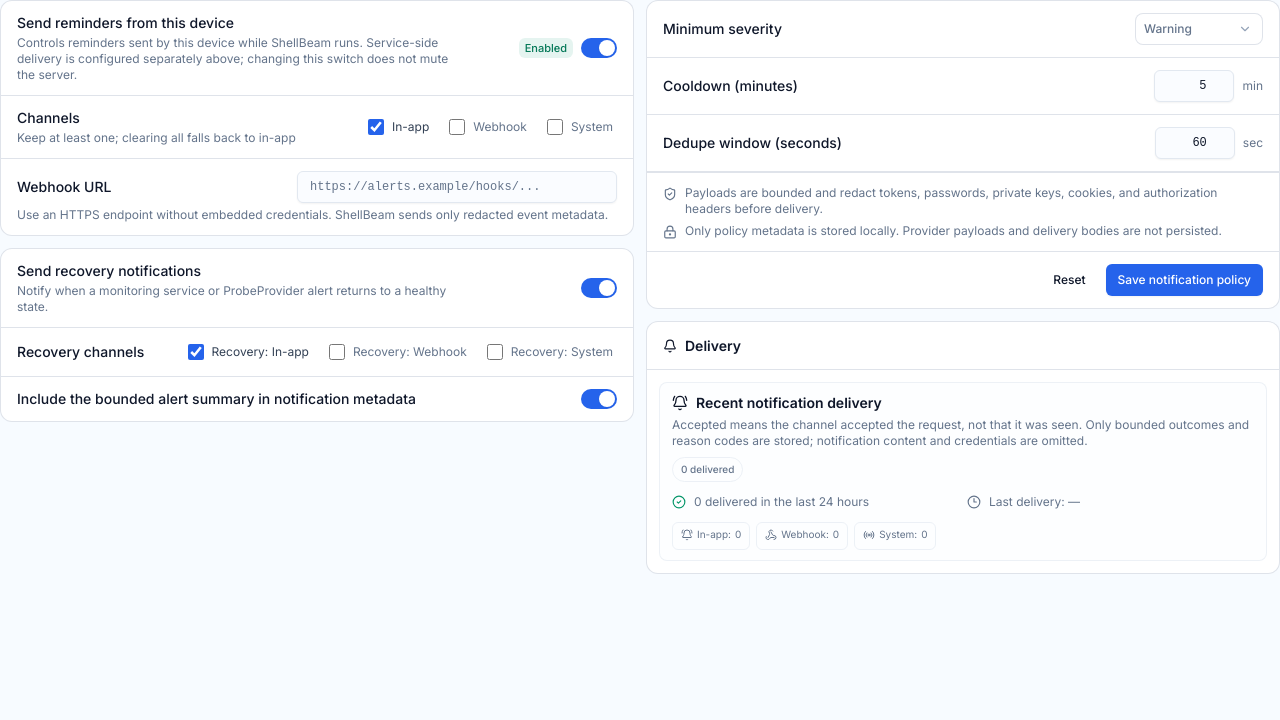
Test: NotificationSettingsSection › saves bounded channel and severity settings without webhook credentials
The image size is (1280, 720).
Click the checkbox labelled "Webhook" at (457, 127), box 449,119 -> 465,135
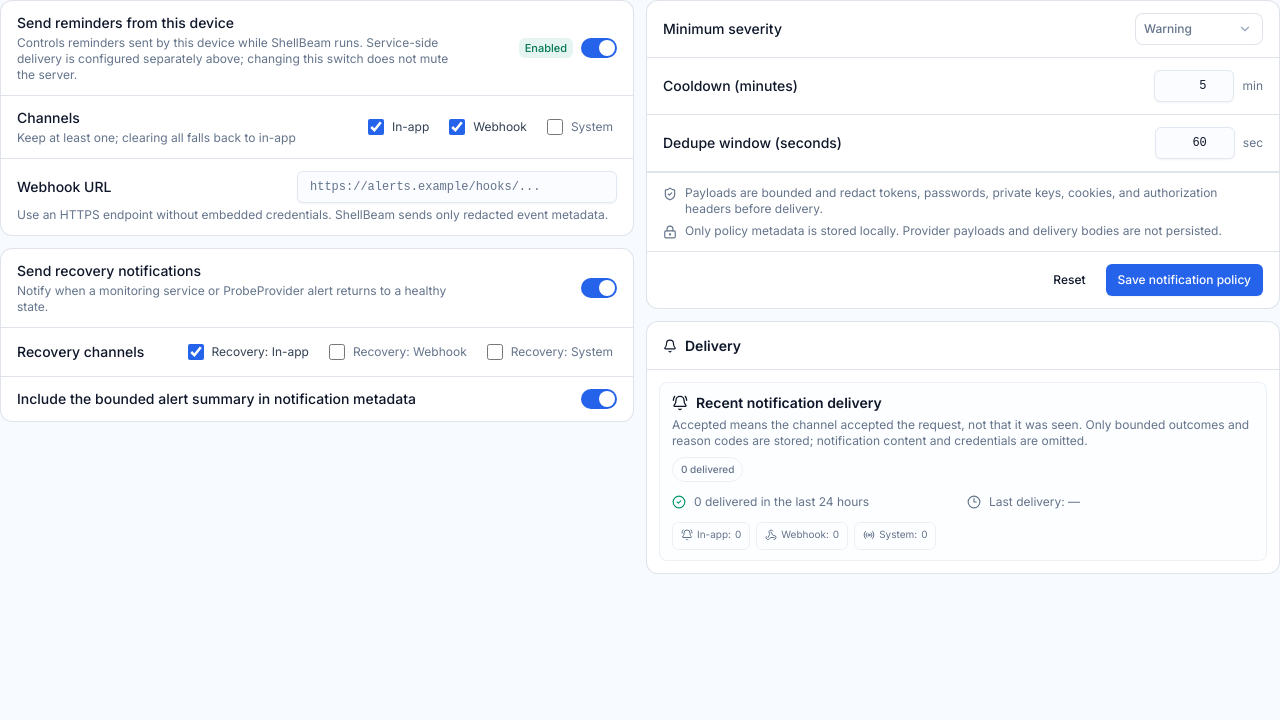
Select "Critical" in the dropdown named "Minimum severity" at (1199, 29), box 1135,13 -> 1263,45
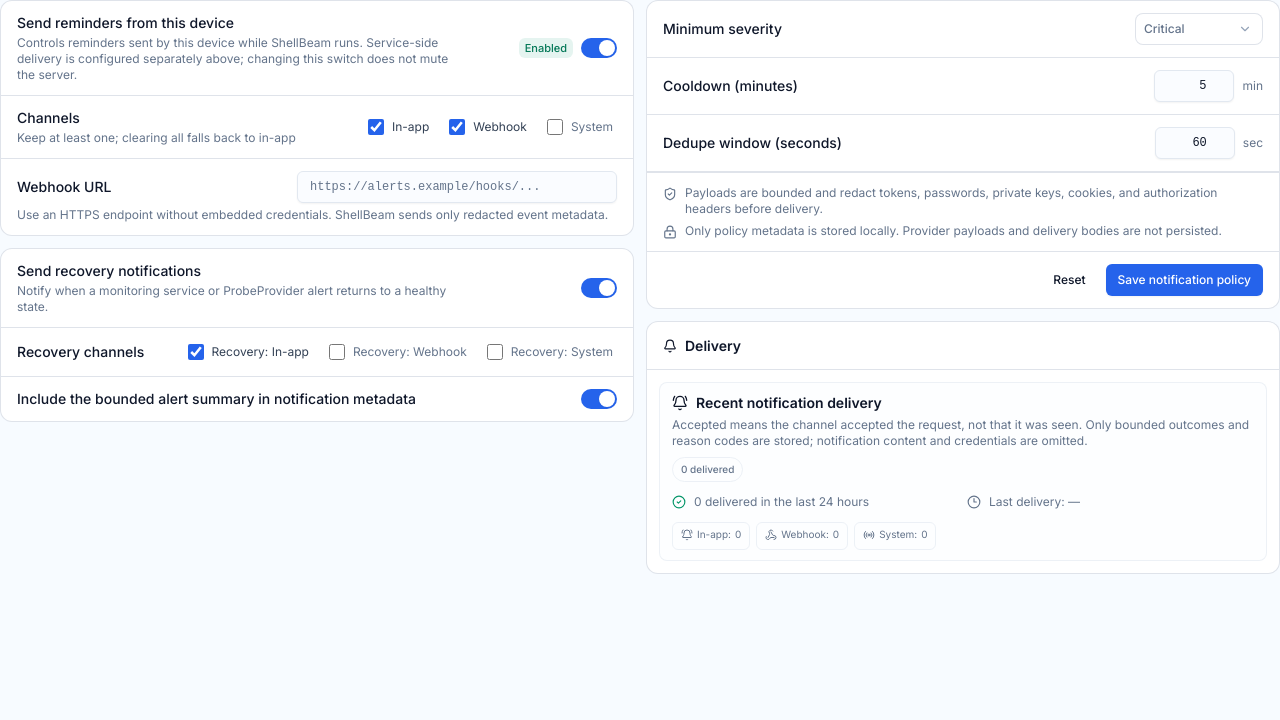
Type "https://alerts.example/hooks/abc" into the field labelled "Webhook URL" at (457, 187), box 297,171 -> 617,203
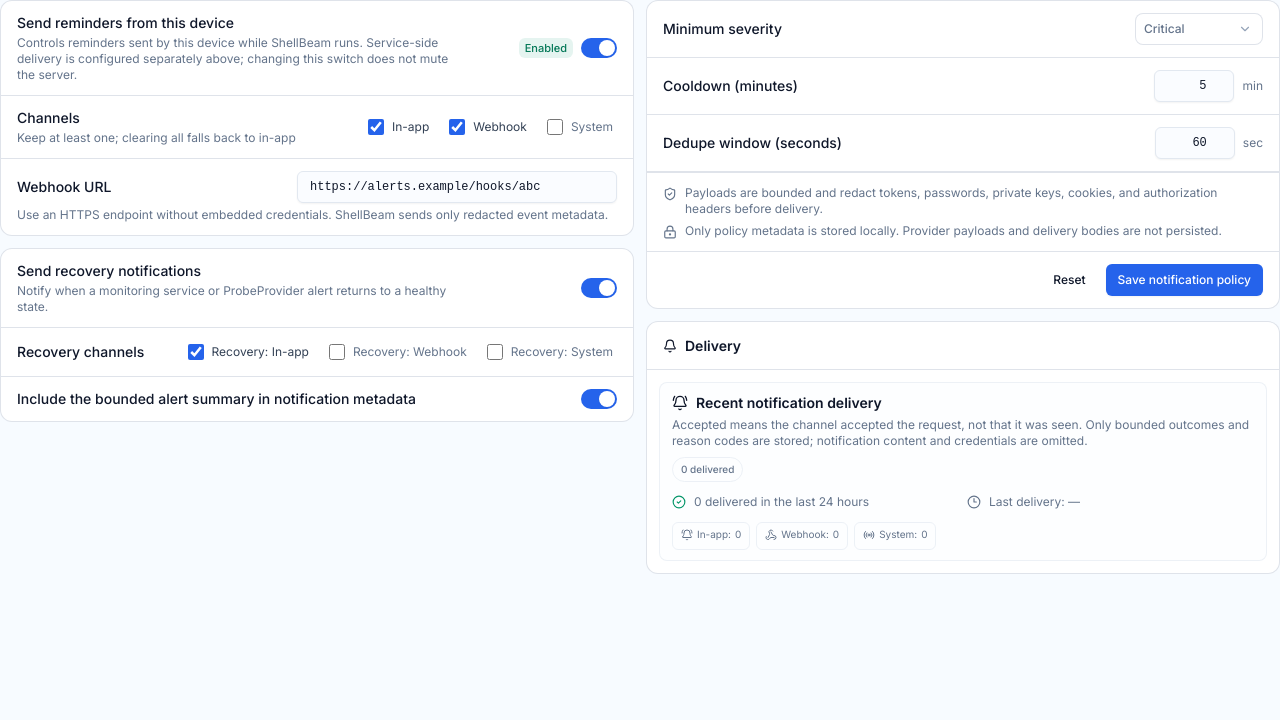
Click the button "Save notification policy" at (1184, 280), box 1106,264 -> 1263,296
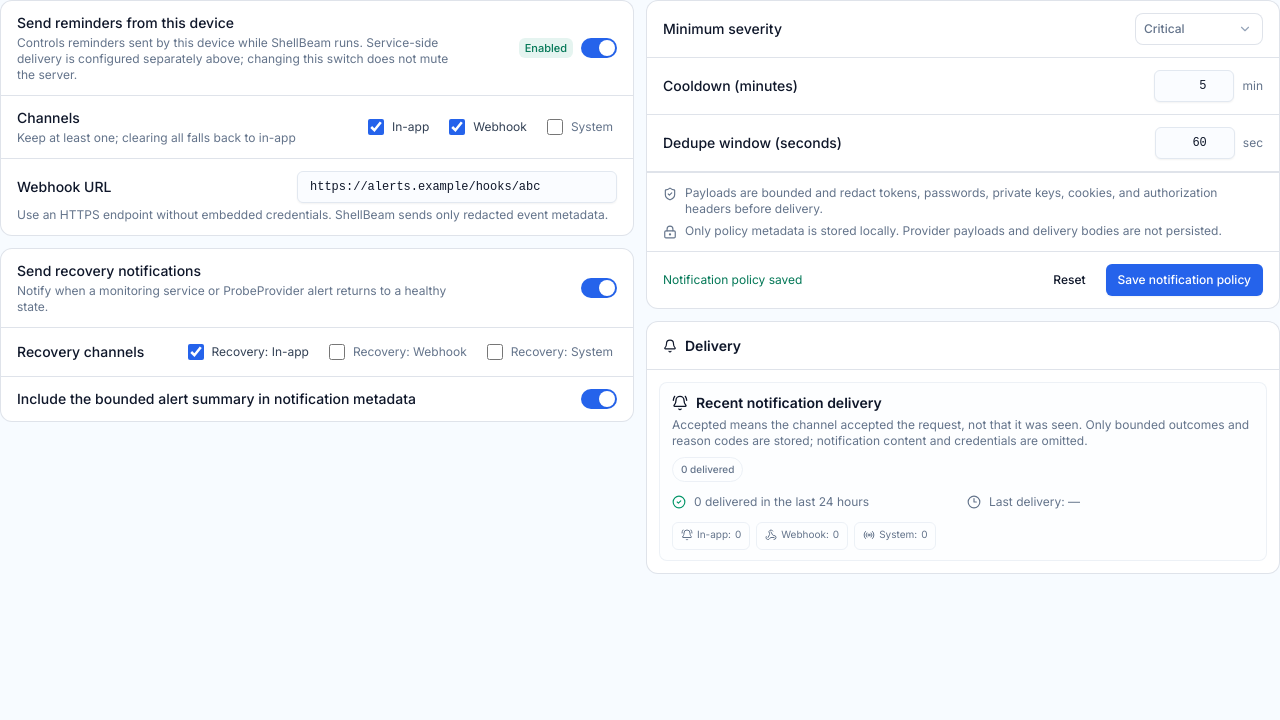
Result: the message reads "Notification policy saved" at 663,272 -> 802,287
